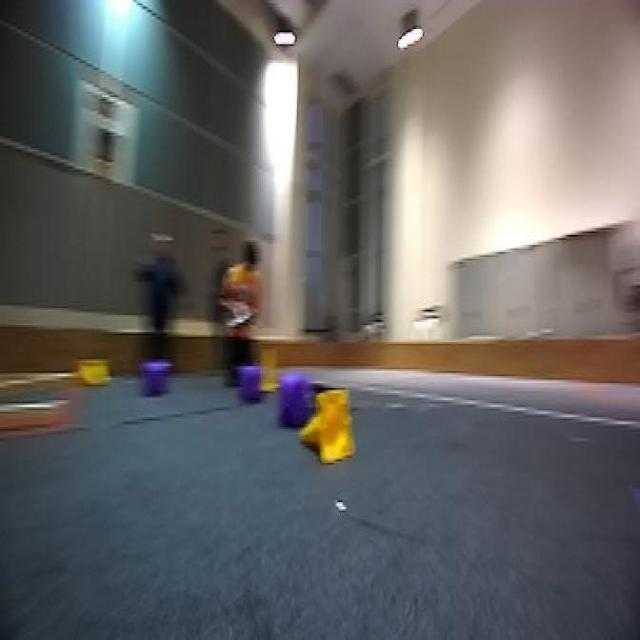frc_cone: (298, 386, 359, 466), (260, 342, 286, 395), (80, 359, 110, 397)
frc_cube: (277, 366, 314, 434), (234, 361, 262, 402), (144, 354, 170, 398)
